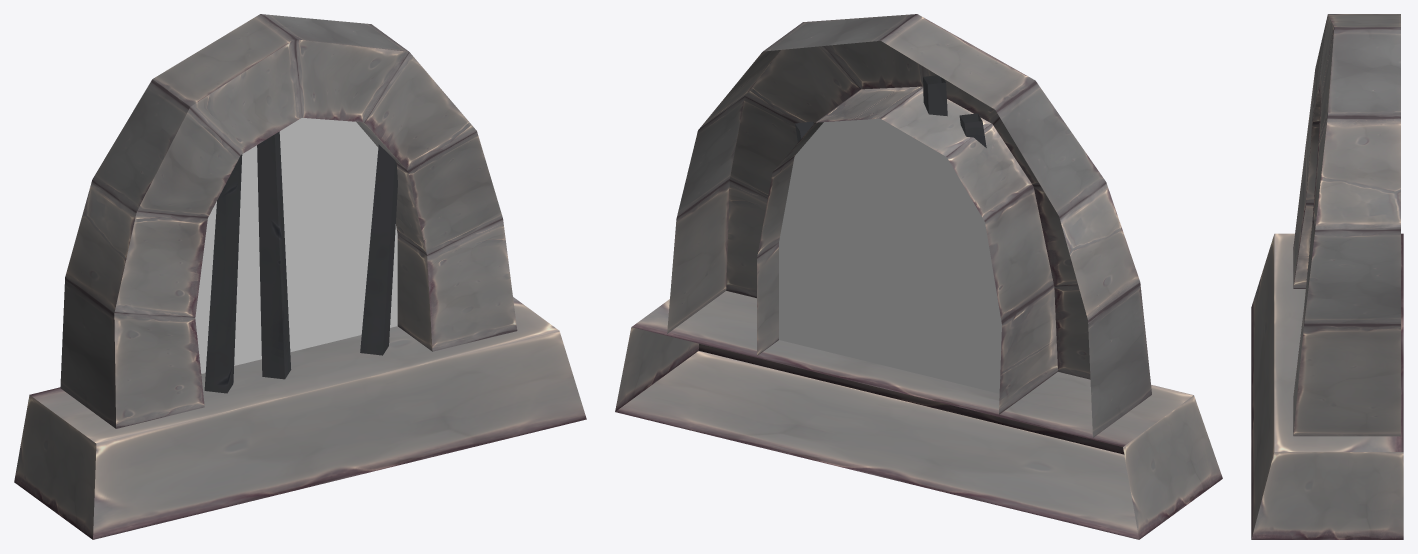
The model's file is SM_BLD_window_v09_04.fbx.
The picture shows the model from 3 angles, left to right: view 1: azimuth 30°, elevation 25°; view 2: azimuth 150°, elevation 25°; view 3: azimuth 270°, elevation 25°; orthographic projection. The views are drawn at different scales.
Visible parts, largest first — view 1: SM_BLD_window_v09_04; view 2: SM_BLD_window_v09_04; view 3: SM_BLD_window_v09_04.
Part boxes in pixels (box(x1,y1,x2,y2)): SM_BLD_window_v09_04: box(14, 14, 586, 539); SM_BLD_window_v09_04: box(615, 14, 1222, 539); SM_BLD_window_v09_04: box(1251, 14, 1403, 539).
Size of the model in its own units: 154 by 122 by 42.56.
